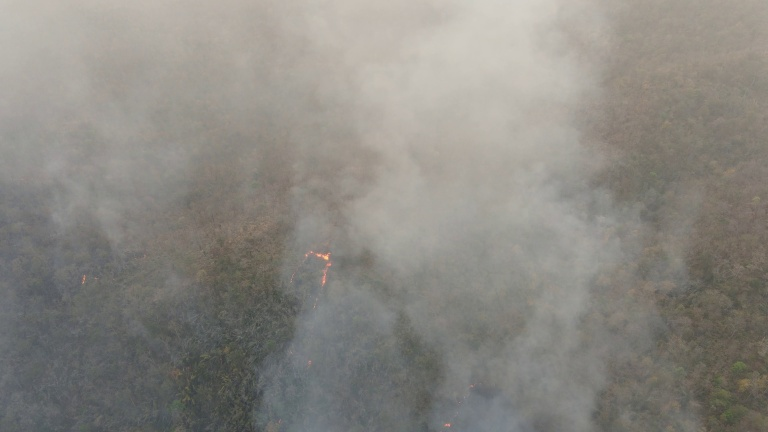fire: (279, 249, 331, 311), (438, 380, 484, 432), (301, 357, 317, 371), (79, 272, 87, 288)
smoke: (272, 1, 675, 431), (1, 1, 359, 155), (1, 158, 190, 429)
